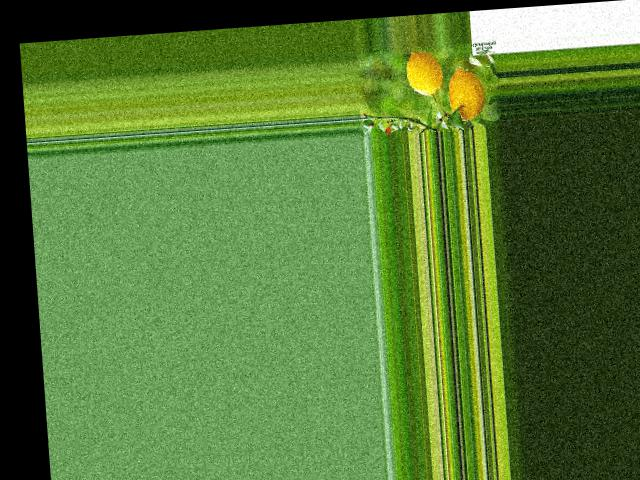lemon: (442, 64, 488, 124)
